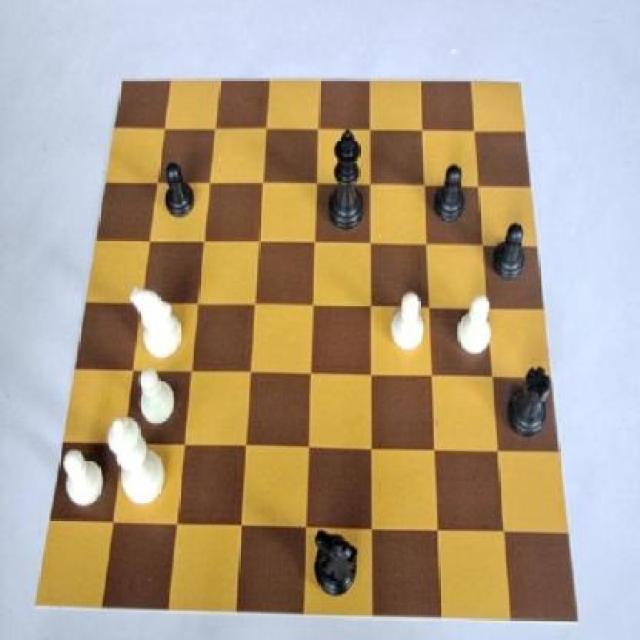black-bishop: (326, 128, 371, 236)
black-king: (311, 526, 366, 606)
black-knight: (485, 220, 530, 292), (431, 160, 472, 228), (155, 158, 198, 222)
black-queen: (506, 357, 556, 449)
white-bishop: (106, 412, 169, 510)
white-king: (126, 285, 185, 369)
white-knight: (131, 363, 183, 434), (60, 446, 106, 512), (388, 289, 428, 357), (456, 295, 496, 360)
